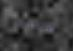five: (32, 19, 38, 31)
six: (39, 20, 45, 31)
three: (25, 19, 31, 30)
two: (46, 20, 52, 32), (18, 18, 24, 29)
